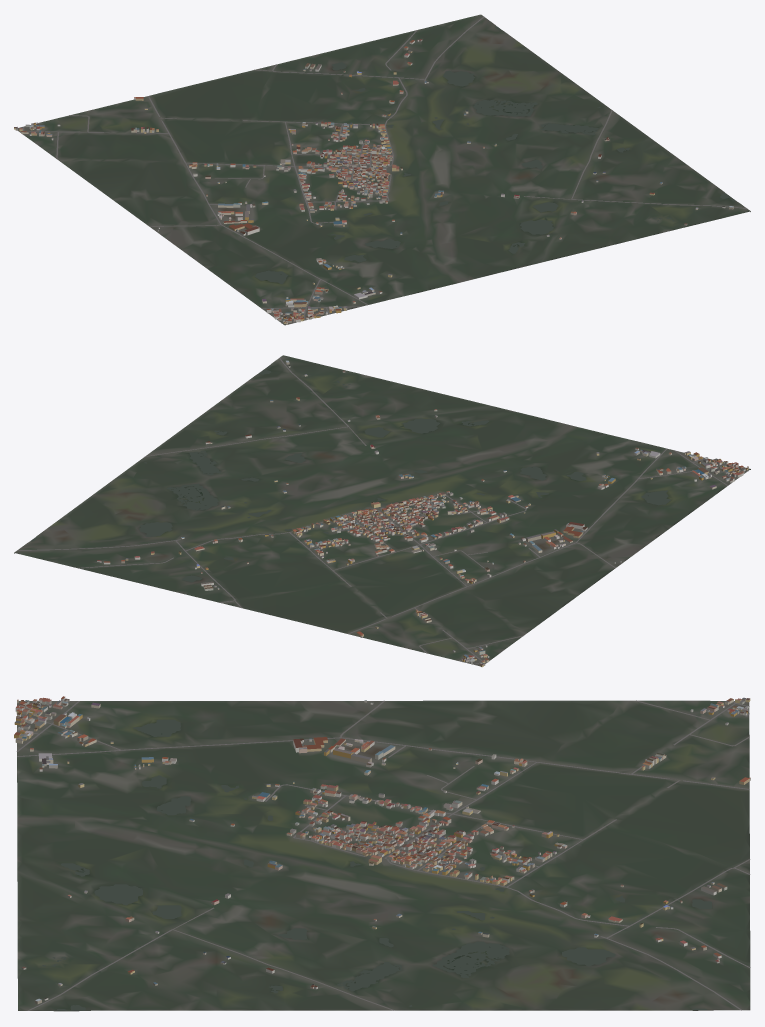
3 renders of one model, top to bottom at view 1: azimuth 30°, elevation 25°; view 2: azimuth 150°, elevation 25°; view 3: azimuth 270°, elevation 25°, orthographic. The views are drawn at different scales.
Visible parts, largest first — view 1: ground, buildings, water, roads; view 2: ground, buildings, water, roads; view 3: ground, buildings, water, roads.
Part boxes in pixels (x1,y1,x2,y2): ground: [18, 14, 750, 325]; buildings: [14, 39, 733, 324]; water: [254, 26, 735, 284]; roads: [20, 16, 746, 323]; ground: [14, 355, 750, 666]; buildings: [97, 360, 748, 667]; water: [31, 365, 670, 582]; roads: [17, 357, 748, 664]; ground: [17, 700, 750, 1011]; buildings: [14, 696, 750, 1004]; water: [42, 719, 711, 1010]; roads: [16, 700, 750, 1010].
Size of the model in its own units: 1410 by 14.76 by 1410.
